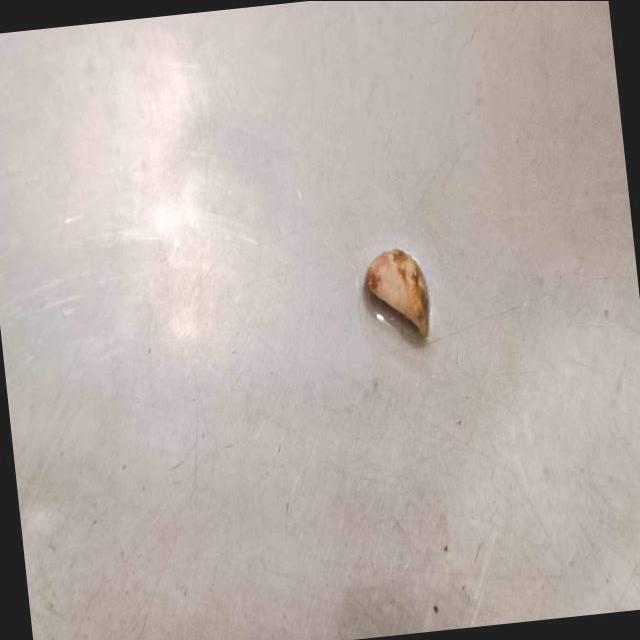General: (0, 0, 638, 639)
Infectious: (363, 247, 429, 337)
